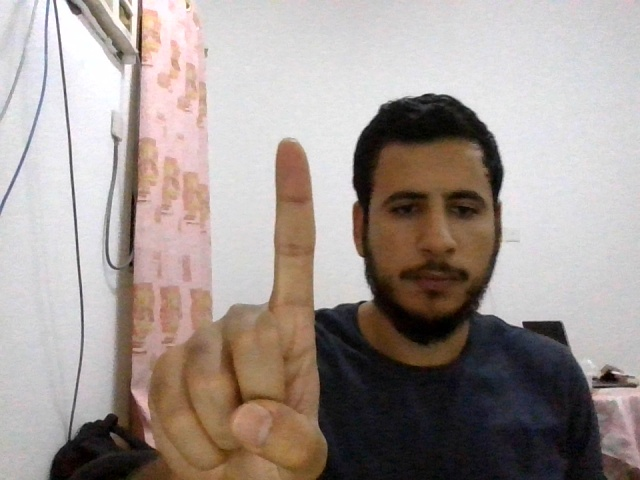One: (150, 137, 329, 475)
